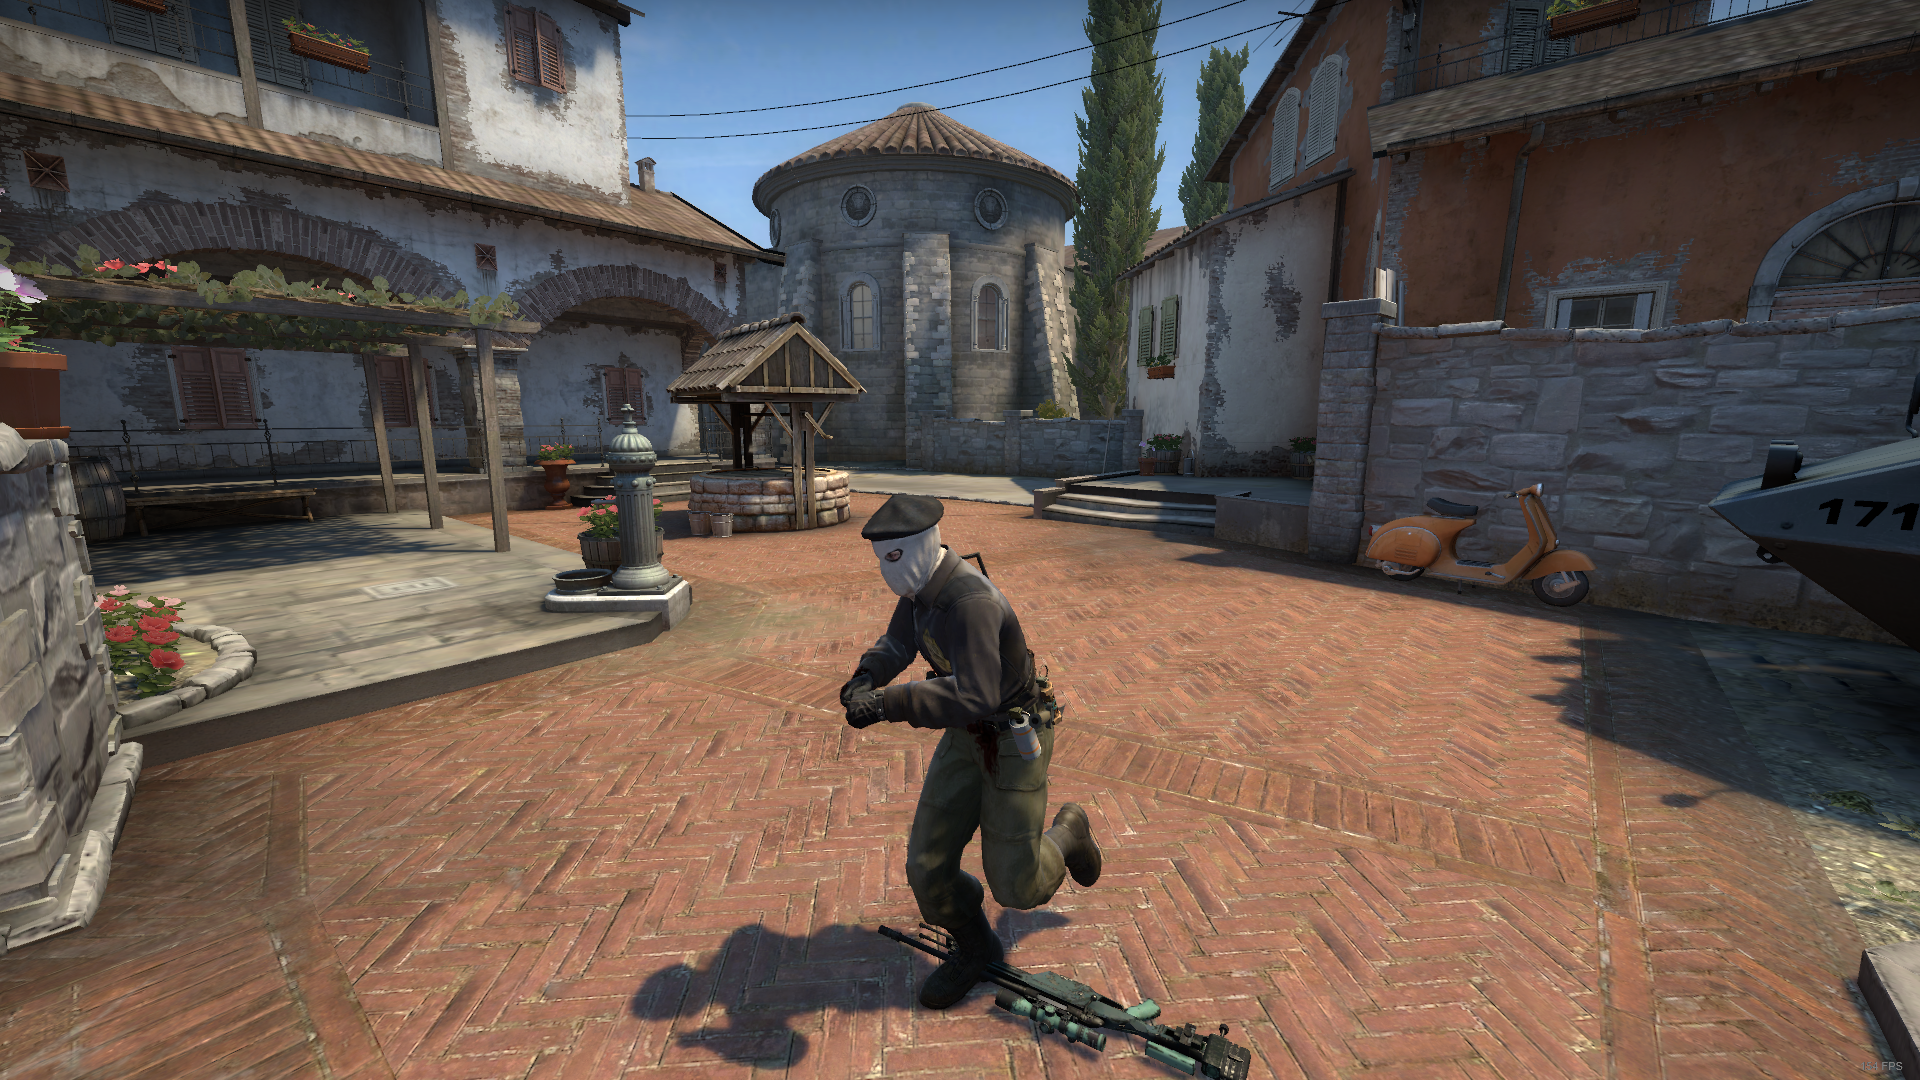t: (837, 495, 1108, 1025)
